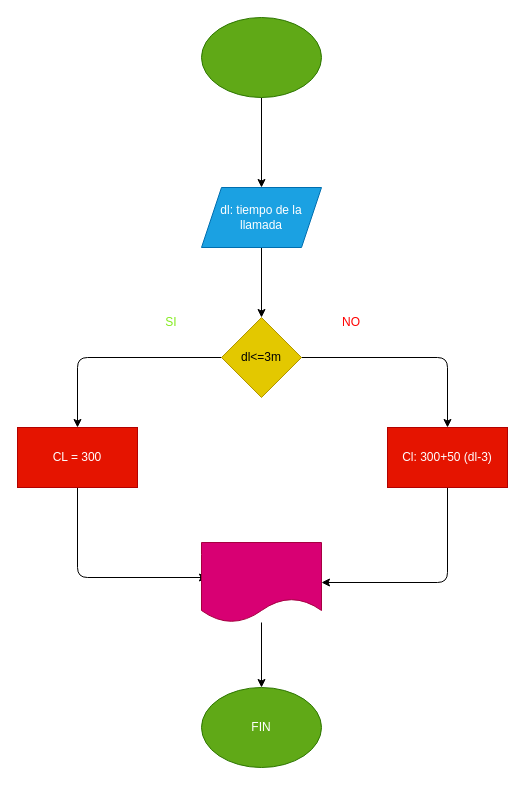
The diagram is 525 pixels wide and 785 high, and some of its shapes have lost their labels. The box of each missing label's shape, as (x1, y1, x2, y2) in pixels:
cl: (200, 542, 322, 622)
INICIO: (200, 16, 322, 98)
